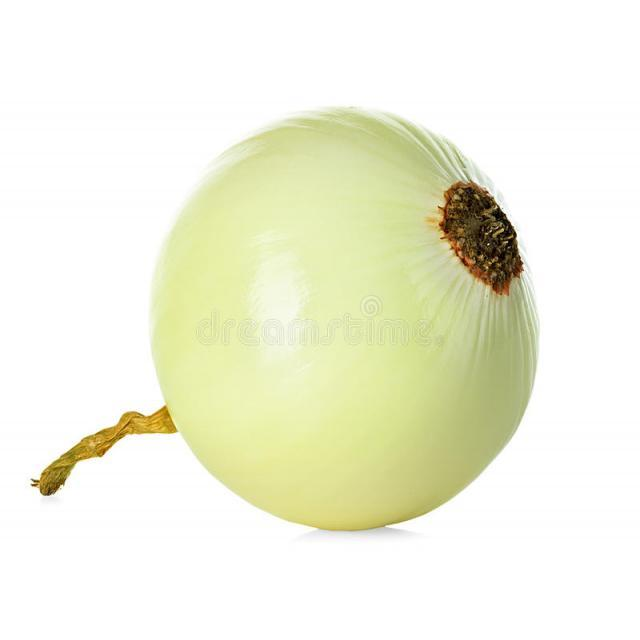onion: (147, 109, 541, 533)
